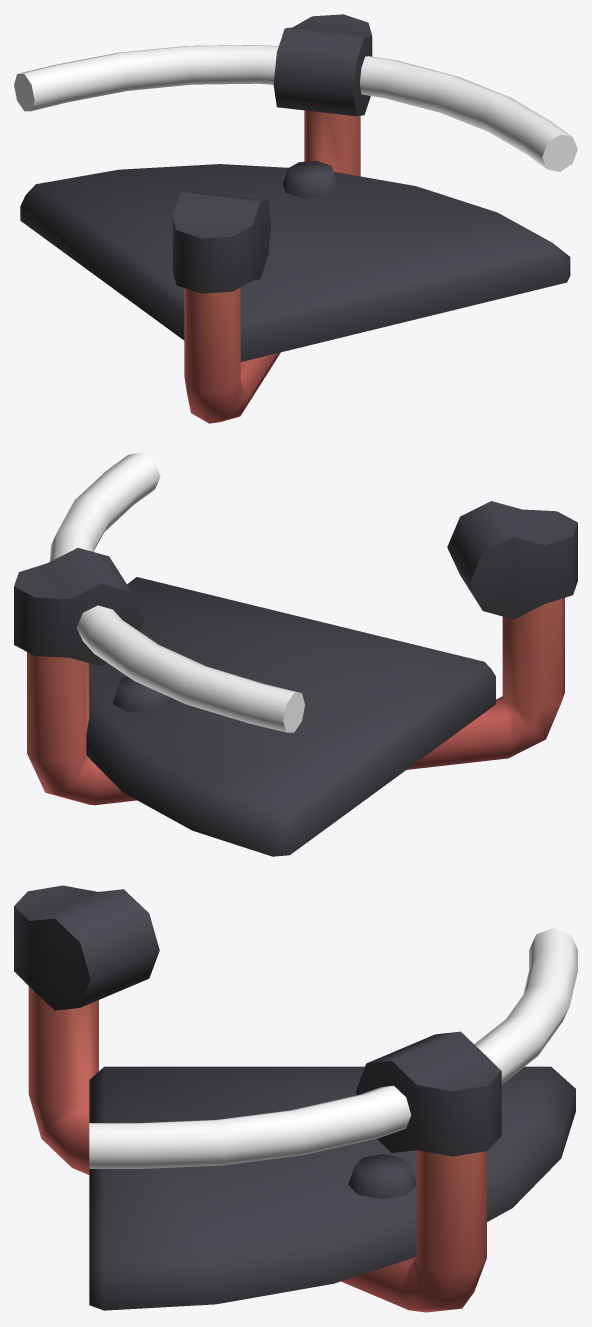
Rendered from catwalk-corner.obj.
3 views of the same model, one above another, from view 1: azimuth 30°, elevation 25°; view 2: azimuth 150°, elevation 25°; view 3: azimuth 270°, elevation 25° (orthographic). The views are drawn at different scales.
Parts seen in each view (by area): view 1: catwalk-corner; view 2: catwalk-corner; view 3: catwalk-corner.
Part boxes in pixels (left/top/right/bottom): catwalk-corner: left=14, top=14, right=577, bottom=423; catwalk-corner: left=14, top=452, right=577, bottom=856; catwalk-corner: left=14, top=885, right=577, bottom=1312.
Size of the model in its own units: 1.15 by 0.6014 by 1.15.
